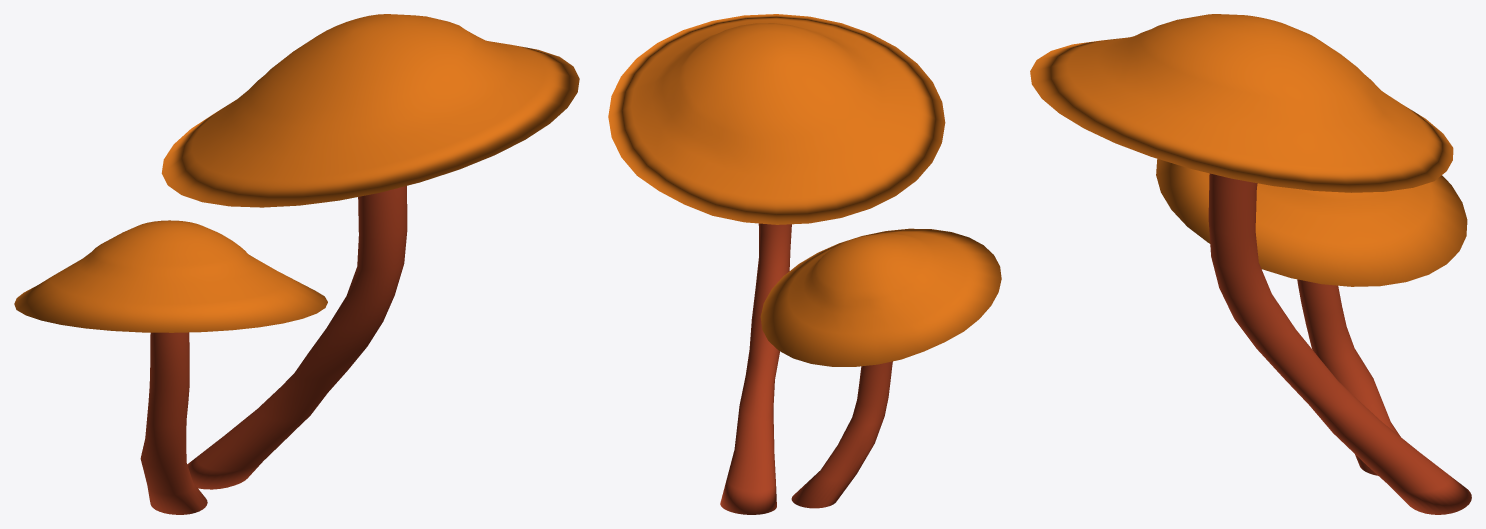
The model's file is mushroomCaveCluster02_001.fbx.
3 renders of one model, left to right at view 1: azimuth 30°, elevation 25°; view 2: azimuth 150°, elevation 25°; view 3: azimuth 270°, elevation 25°, orthographic. The views are drawn at different scales.
Visible parts, largest first — view 1: Sphere.001, Cylinder.010; view 2: Sphere.001, Cylinder.010; view 3: Sphere.001, Cylinder.010.
Boxes of the visible parts, <box> form: Sphere.001: <box>161,14,579,489</box>; Cylinder.010: <box>14,220,327,514</box>; Sphere.001: <box>608,14,945,514</box>; Cylinder.010: <box>760,228,1001,508</box>; Sphere.001: <box>1030,14,1471,514</box>; Cylinder.010: <box>1156,159,1467,475</box>.
Bounding box in the file's own units: 755 × 748 × 584.
